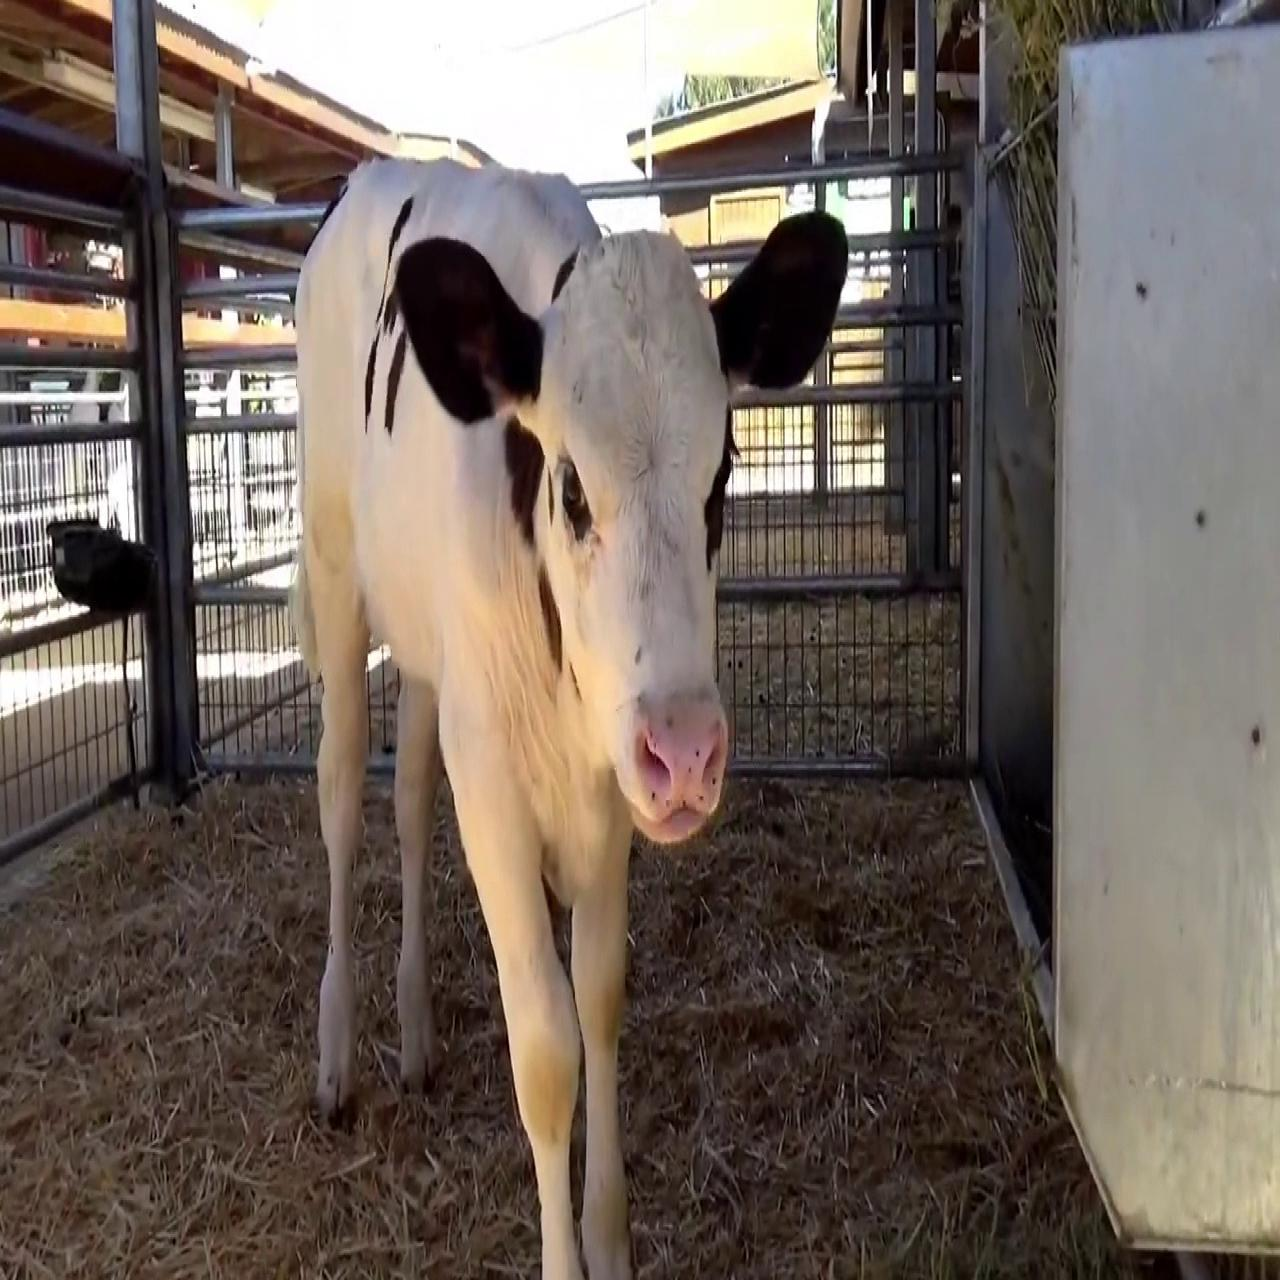Face: (549, 263, 729, 839)
